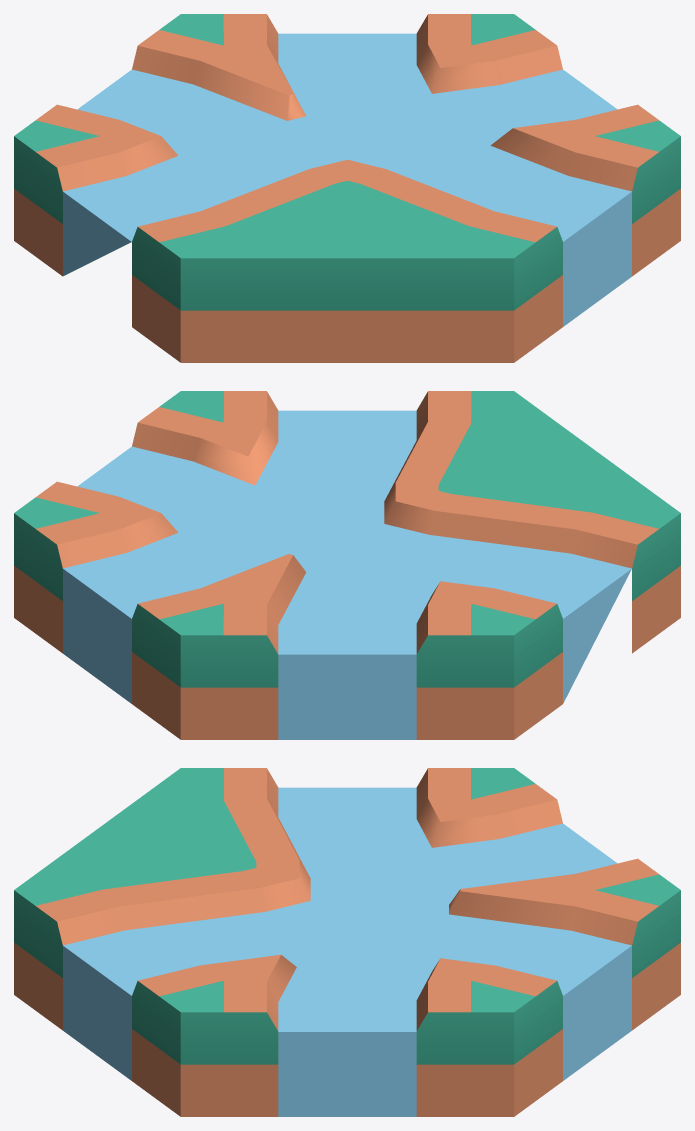
Rendered from kenney-hexagon-river-intersectiong.glb.
The picture shows the model from 3 angles, top to bottom: view 1: azimuth 30°, elevation 25°; view 2: azimuth 150°, elevation 25°; view 3: azimuth 270°, elevation 25°; orthographic projection.
Parts seen in each view (by area): view 1: river_intersectionG; view 2: river_intersectionG; view 3: river_intersectionG.
Part boxes in pixels (x1,y1,x2,y2): river_intersectionG: (14, 14, 680, 362); river_intersectionG: (14, 391, 680, 739); river_intersectionG: (14, 768, 680, 1116).
Bounding box in the file's own units: 1 × 0.2 × 1.15.
1 material, 1 textured.
